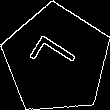L_SE: (28, 33, 85, 86)
